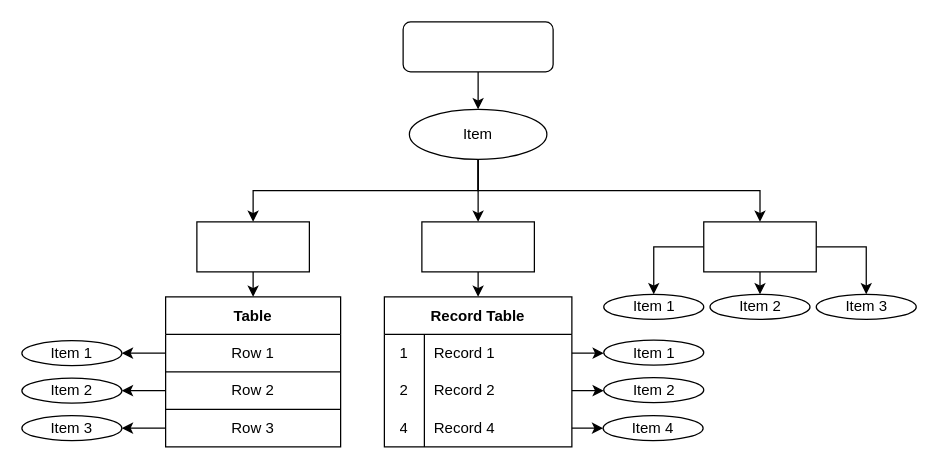
This 939x469 diagram has some shape labels left out. Here are the shapes that lost their labels. From the top down, the centre of each, then its label:
point 477,46: Model
point 252,246: rows
point 477,246: records
point 759,246: elements
